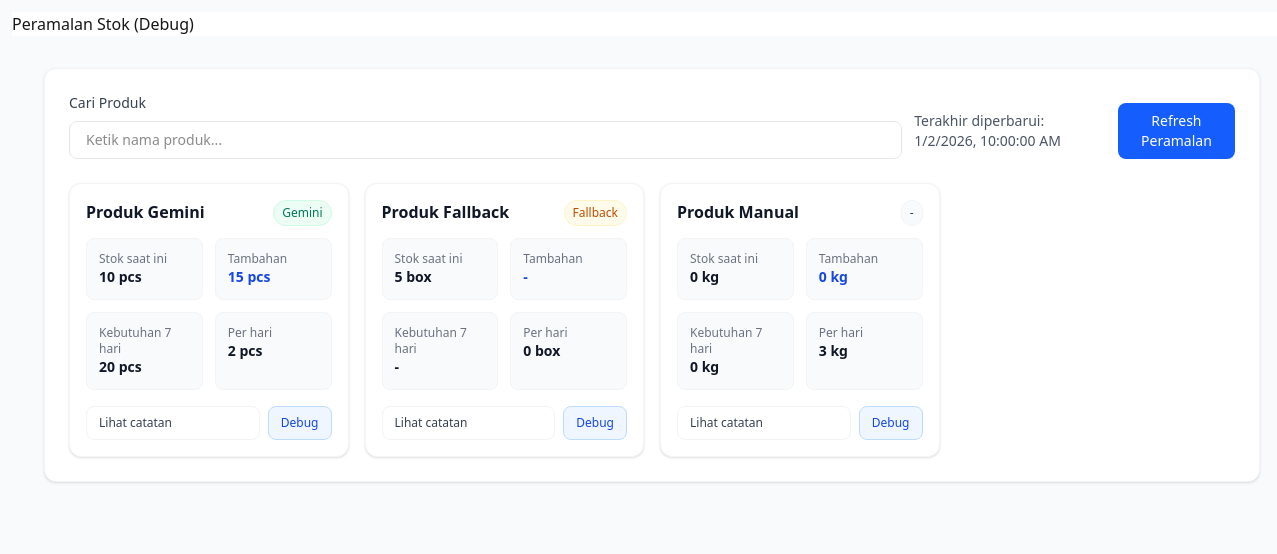
Scenario: recommendations-debug module › renders note toggle for a row
expect the text "Produk Gemini" is shown: met, box 86,200 -> 205,224
What coordinates should you click on to do the following:
click the button "Lihat catatan" below "20 pcs"
I would click on:
 (173, 423)
Its box is 86,406 -> 260,440.
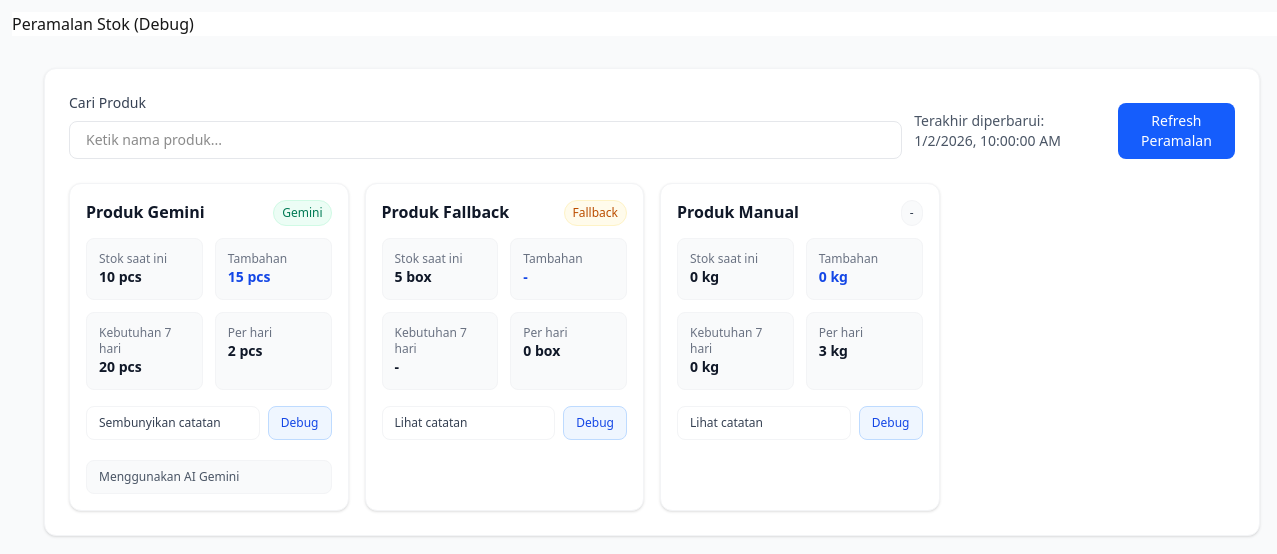
expect the button "Sembunyikan catatan" is shown: met
expect the text "Menggunakan AI Gemini" is shown: met, box 86,460 -> 332,494
What coordinates should you click on to do the following:
click the button "Sembunyikan catatan"
I would click on:
 (173, 423)
Its box is 86,406 -> 260,440.
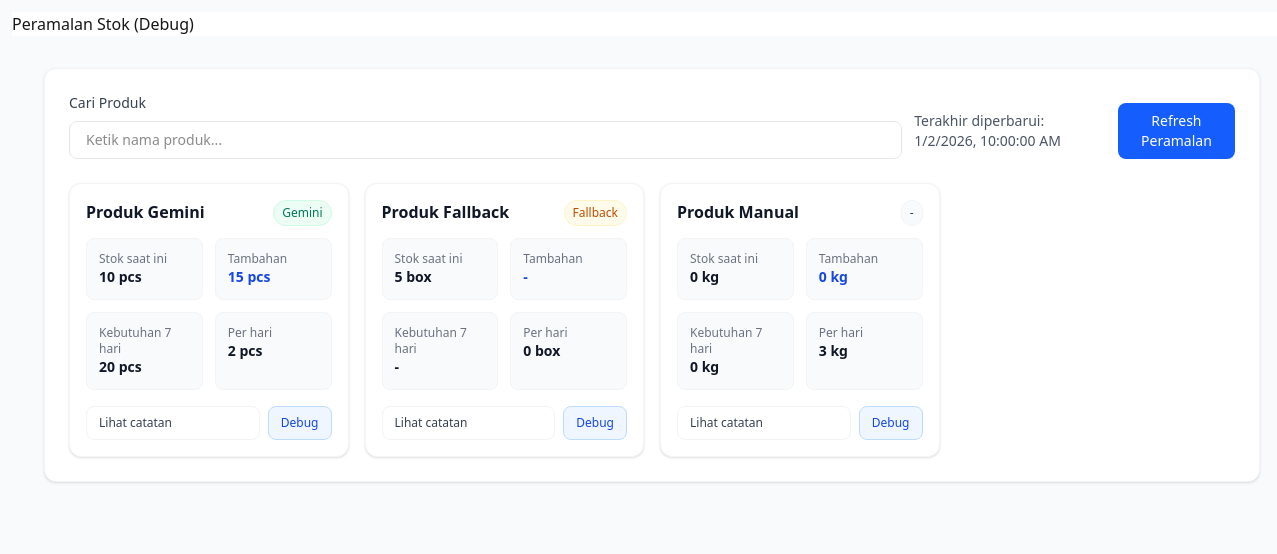
expect the text "Menggunakan AI Gemini" is gone: met
